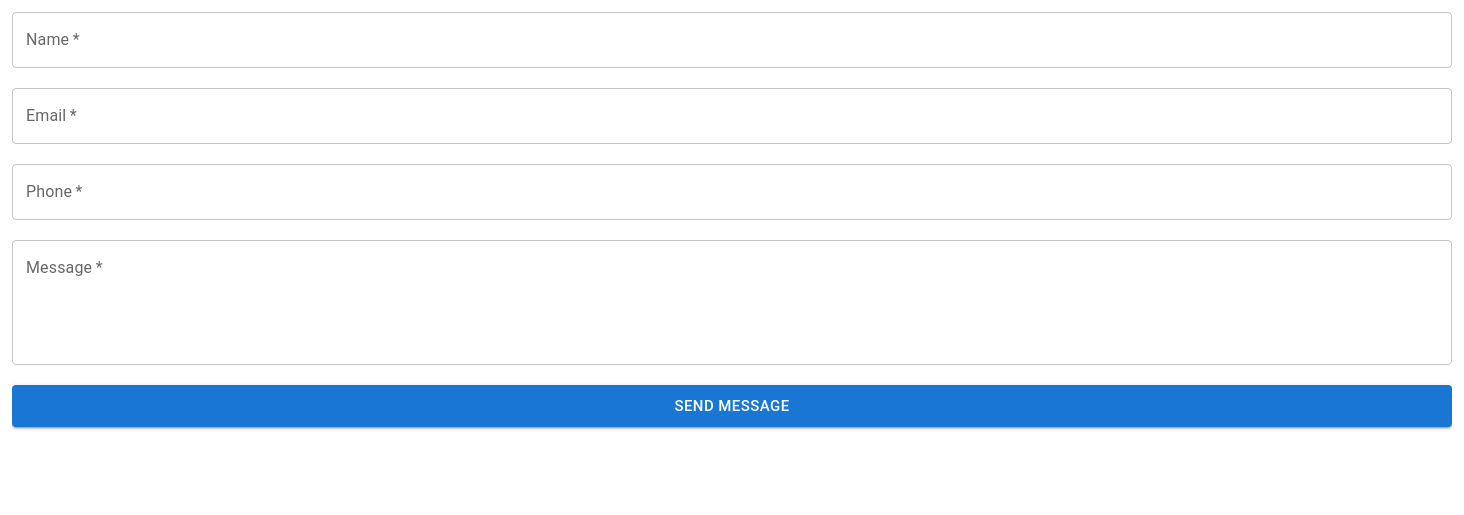
Test case: ContactForm › submits and shows a success message on valid input, then resets the form
The image size is (1464, 515).
Type "Jane Doe" into the field labelled "Name *" at (732, 40), box [12,12,1452,68]
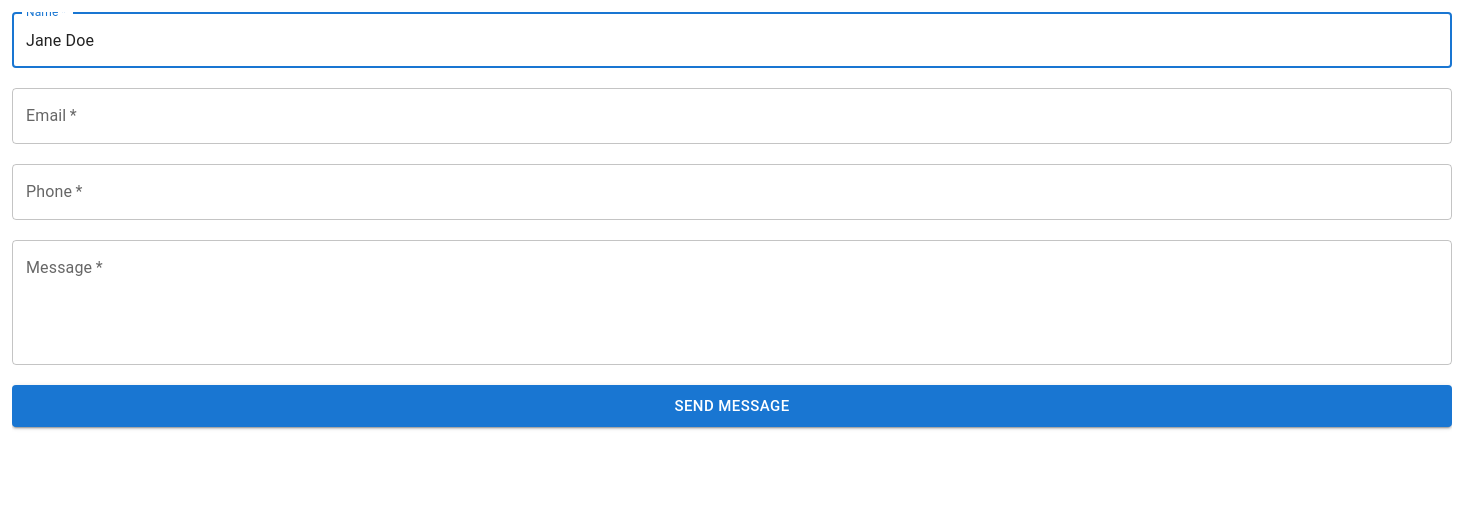
Type "jane@example.com" into the field labelled "Email *" at (732, 116), box [12,88,1452,144]
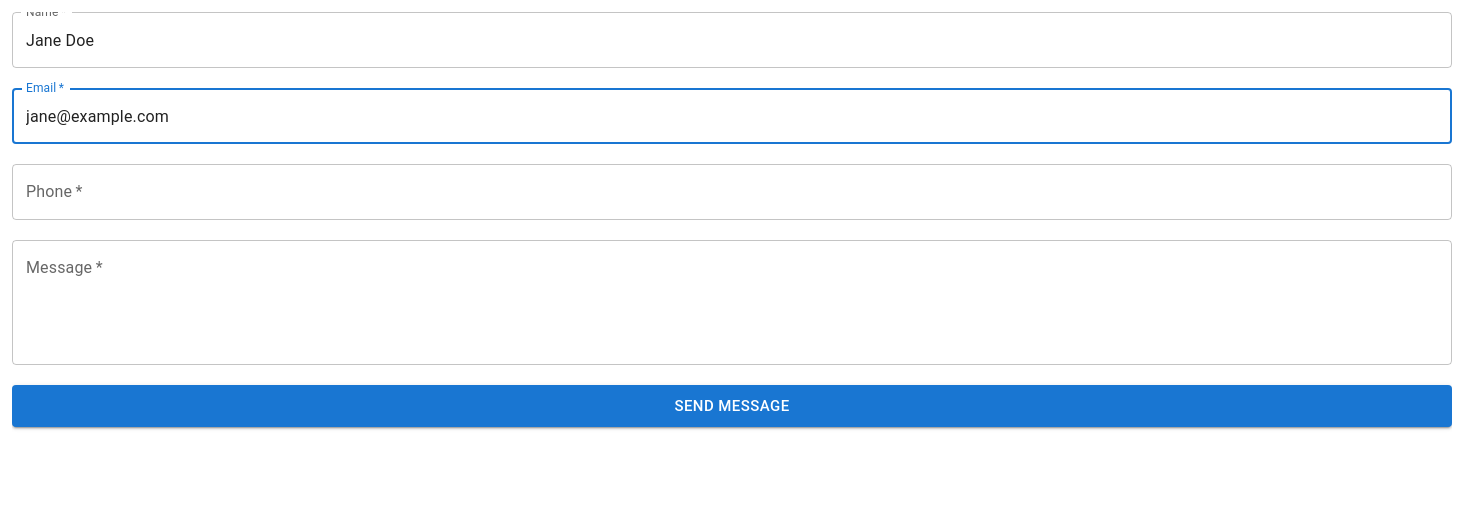
Type "555-1234" into the field labelled "Phone *" at (732, 192), box [12,164,1452,220]
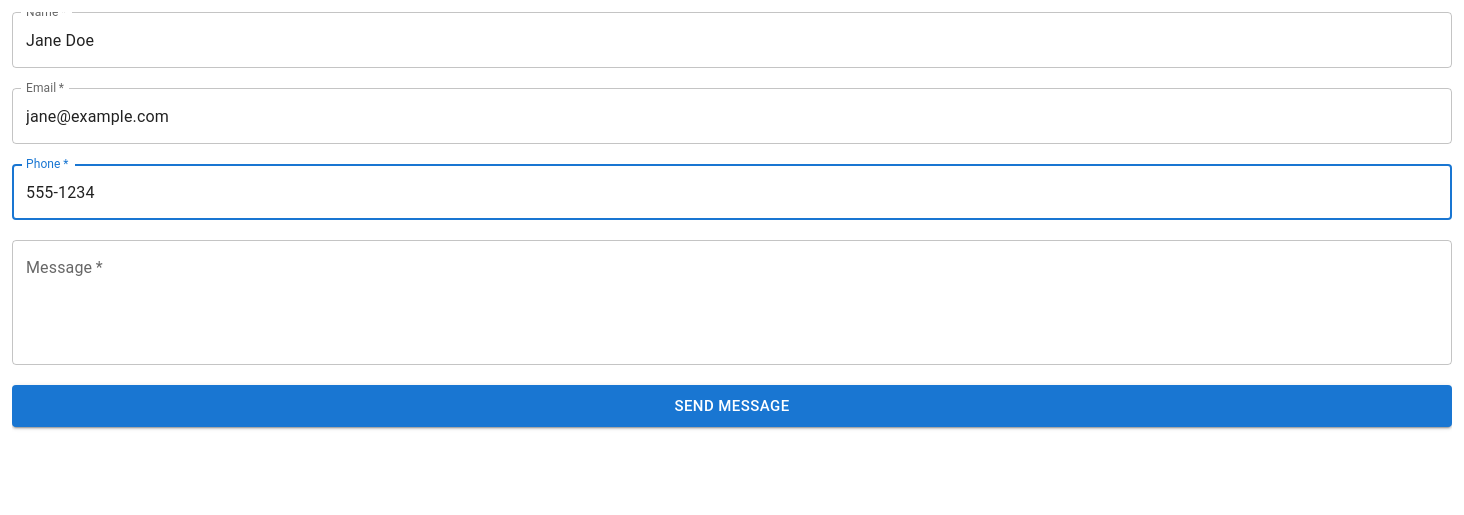
Type "Hello there" into the text box labelled "Message *" at (732, 302), box [26,256,1438,348]
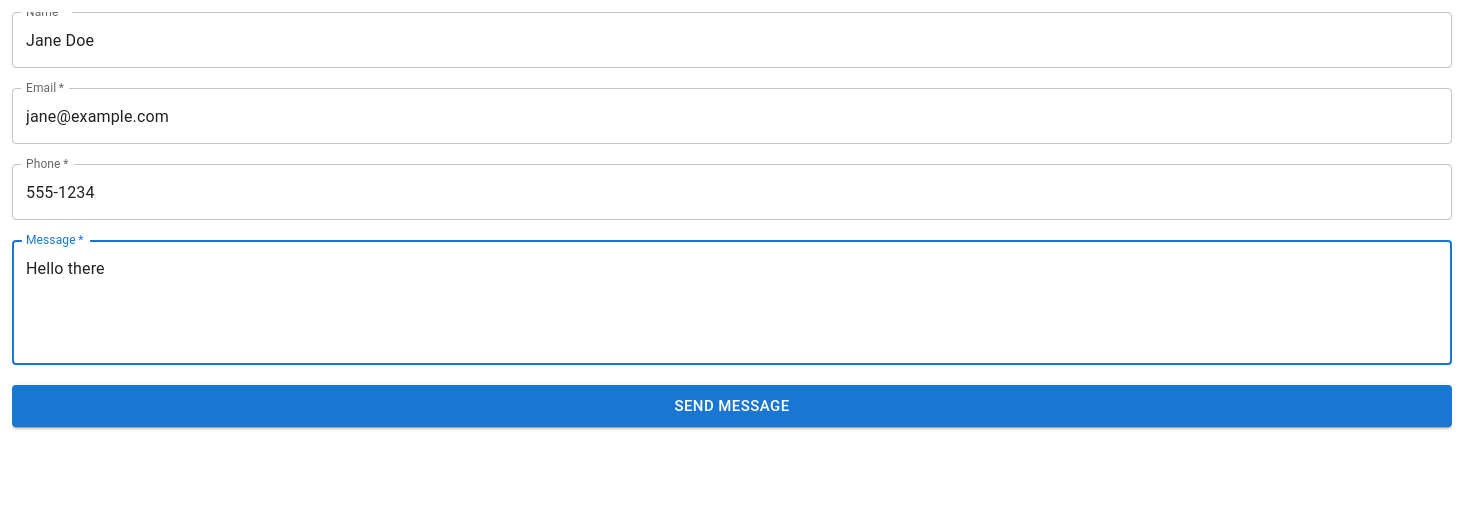
Click the button "Send Message" at (732, 406), box [12,385,1452,427]
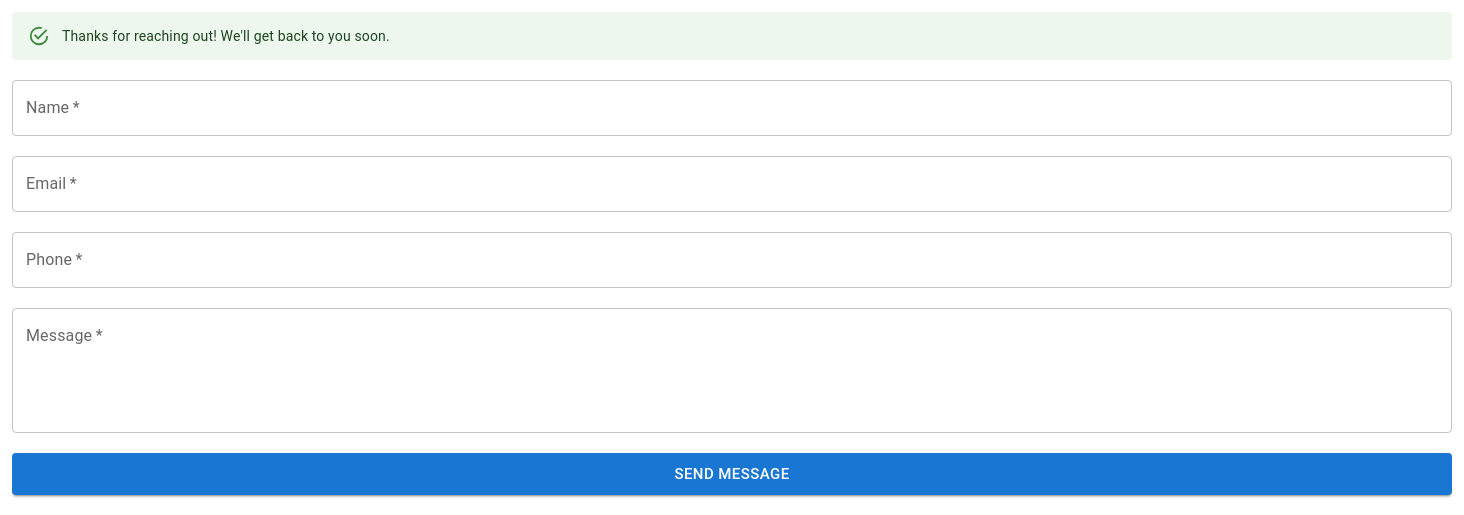
Check: the text "Thanks for reaching out! We'll get back to you soon." is shown, box [62,28,390,44]
Check: the field labelled "Name *" is empty, box [12,80,1452,136]
